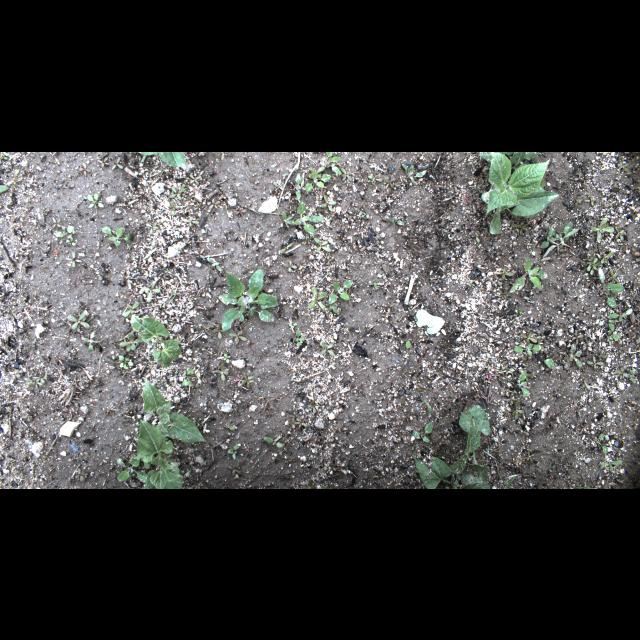crop: (478, 152, 560, 234), (412, 406, 492, 488), (142, 380, 206, 446), (134, 419, 182, 488), (131, 314, 181, 368), (136, 151, 188, 169)
weed: (216, 266, 278, 332), (539, 220, 579, 258), (508, 258, 548, 294), (291, 200, 325, 234), (116, 454, 152, 486), (598, 268, 626, 308), (304, 166, 332, 194), (327, 280, 353, 304), (102, 226, 130, 248), (411, 418, 433, 444), (591, 217, 613, 243), (118, 332, 146, 352), (566, 342, 586, 368), (402, 162, 428, 182), (64, 312, 90, 330), (82, 330, 105, 350), (583, 253, 603, 275), (308, 286, 326, 310), (518, 330, 542, 348), (516, 368, 530, 398), (512, 342, 542, 356), (324, 152, 344, 172), (143, 280, 161, 302), (64, 250, 84, 268), (593, 432, 609, 454), (492, 264, 514, 280), (294, 172, 306, 200), (609, 307, 633, 321), (206, 256, 224, 274), (313, 235, 332, 252), (263, 434, 283, 450), (510, 400, 526, 420), (179, 367, 195, 387), (598, 459, 624, 471), (168, 183, 186, 200), (86, 193, 104, 209), (122, 301, 140, 317), (116, 353, 134, 369), (282, 208, 296, 228), (318, 342, 338, 356), (214, 364, 230, 381), (240, 372, 254, 390), (292, 330, 306, 346), (229, 330, 247, 342), (56, 224, 74, 236), (601, 250, 615, 264), (605, 268, 619, 282), (571, 330, 585, 344), (587, 356, 603, 368), (625, 368, 637, 384), (544, 358, 562, 368), (384, 176, 396, 190), (341, 166, 353, 180), (228, 444, 238, 460), (388, 217, 404, 226), (212, 326, 226, 336), (51, 215, 61, 229), (368, 173, 384, 181), (616, 369, 628, 379), (75, 470, 87, 480), (616, 226, 624, 240), (608, 312, 614, 330), (581, 380, 591, 390)
